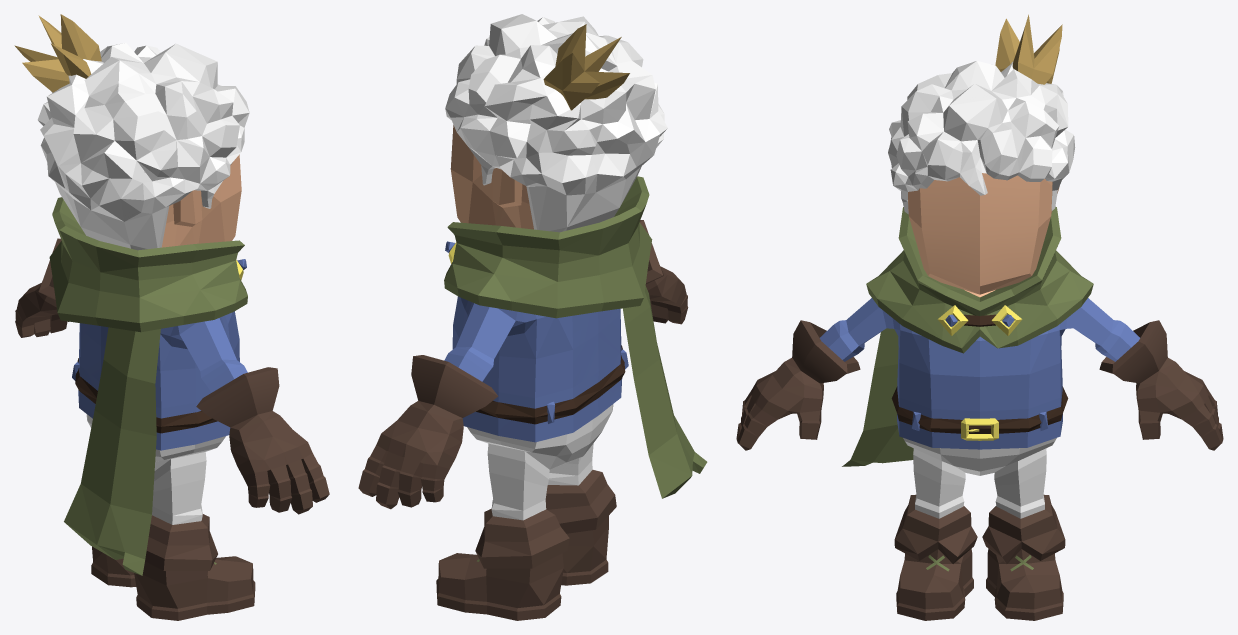
Rendered from demo1.gltf.
The picture shows the model from 3 angles, left to right: view 1: azimuth 30°, elevation 25°; view 2: azimuth 150°, elevation 25°; view 3: azimuth 270°, elevation 25°; orthographic projection. The views are drawn at different scales.
Parts seen in each view (by area): view 1: Emitter; view 2: Emitter; view 3: Emitter.
Part boxes in pixels (bbox=[...]): Emitter: bbox=[14, 14, 329, 620]; Emitter: bbox=[358, 14, 707, 620]; Emitter: bbox=[736, 14, 1223, 620].
Bounding box in the file's own units: 0.5457 × 1.6 × 1.31.
